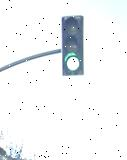greenlight: (62, 16, 85, 76)
